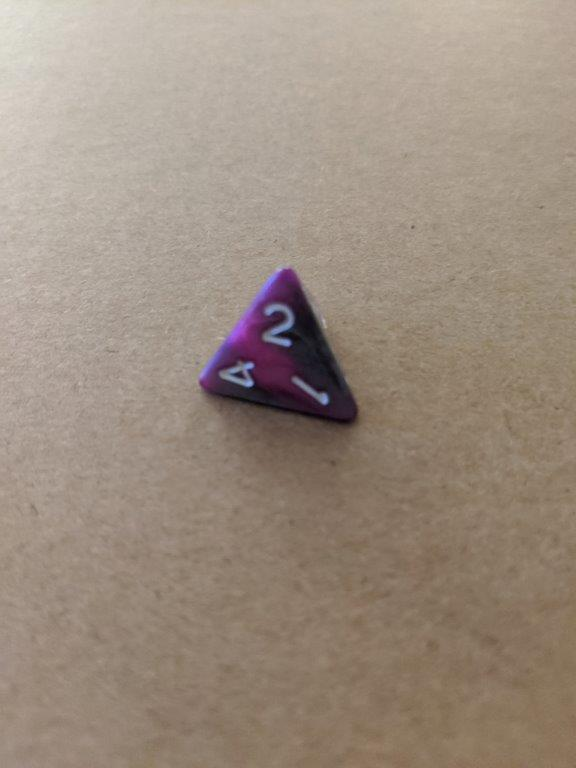d4-2: (193, 257, 363, 431)
